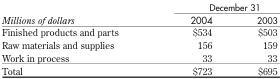table: (0, 0, 276, 76)
table column: (0, 0, 153, 76), (153, 0, 233, 76), (233, 0, 276, 76)
table column header: (0, 0, 276, 25)
table row: (0, 12, 276, 25), (0, 25, 276, 38), (0, 50, 276, 63), (0, 63, 276, 76), (0, 0, 276, 12), (0, 38, 276, 50)
table spanning cell: (0, 0, 153, 25), (153, 0, 276, 12)
